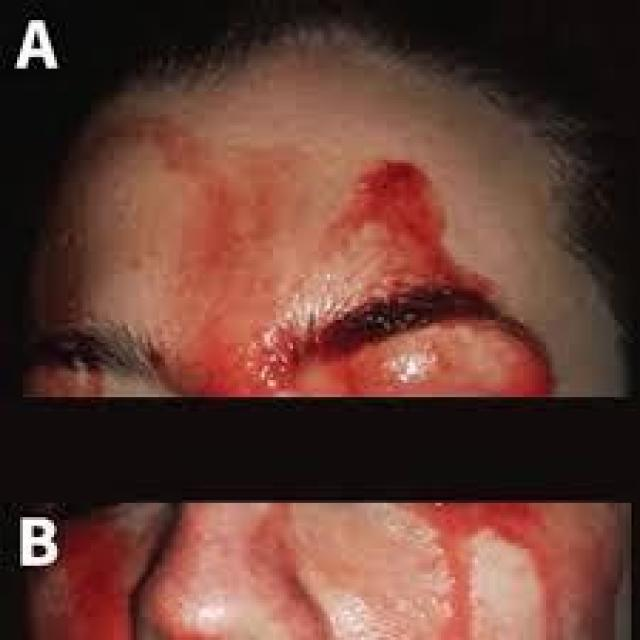flood: (55, 122, 554, 390), (35, 508, 625, 636)
